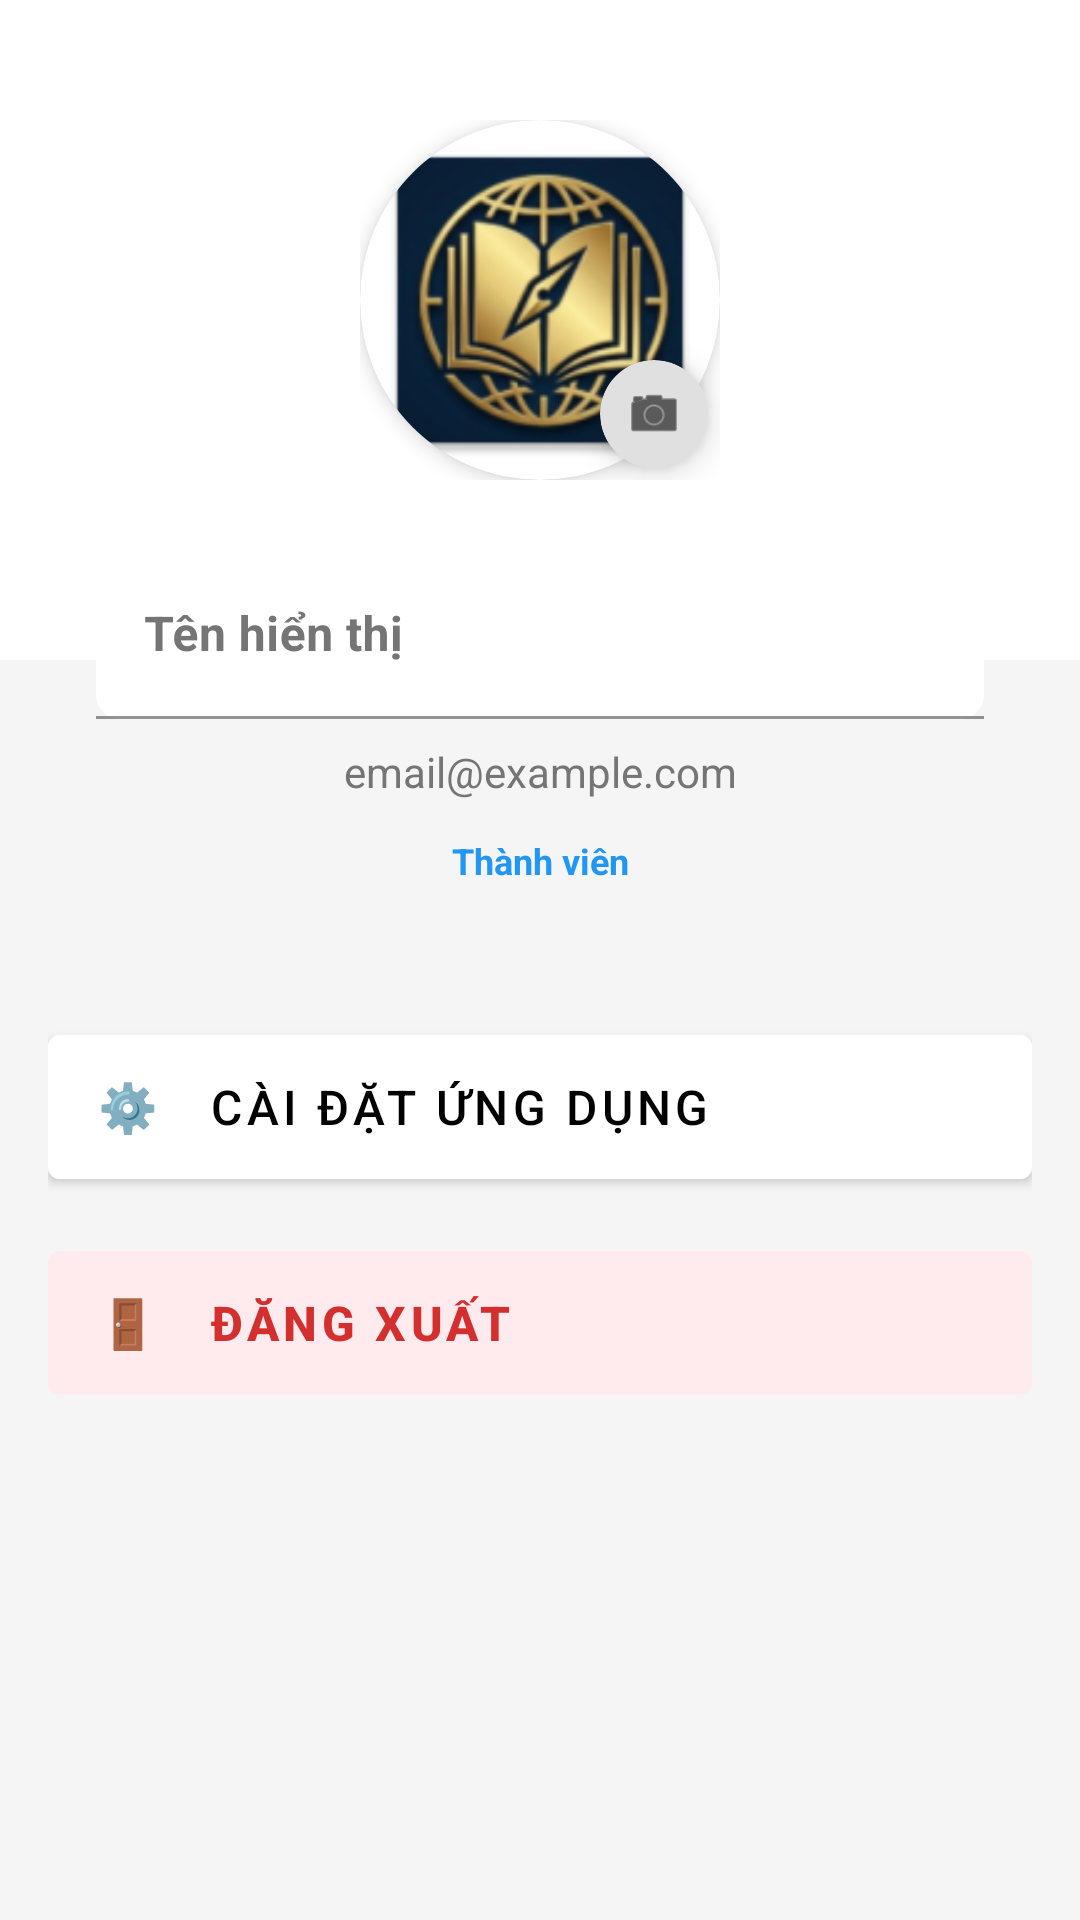

Icons on this 1080 x 1920 Android screen, each with its box as region(x1, y1, x2, y2):
camera: region(631, 395, 677, 432)
